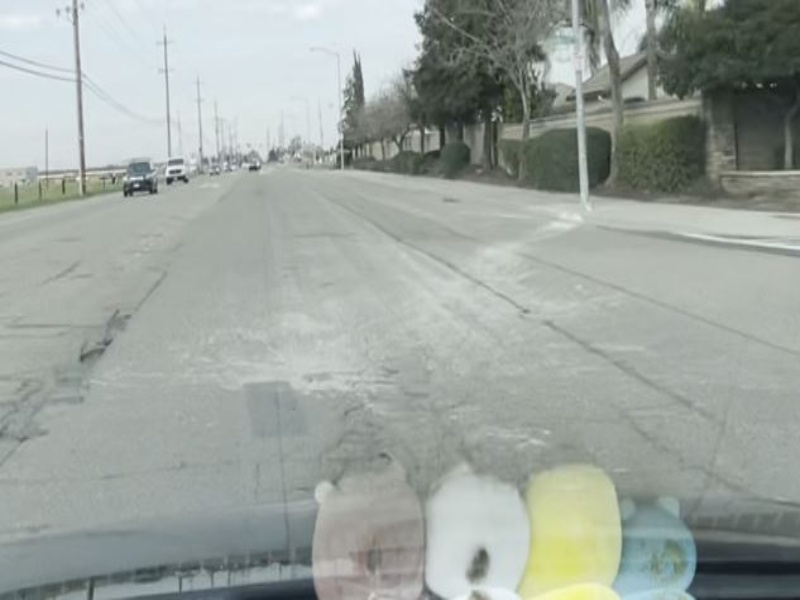pothole: (76, 344, 110, 363)
